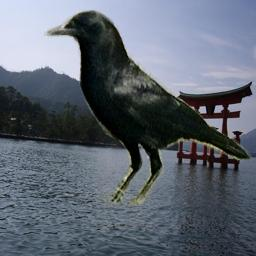Crow: (44, 10, 252, 206)
